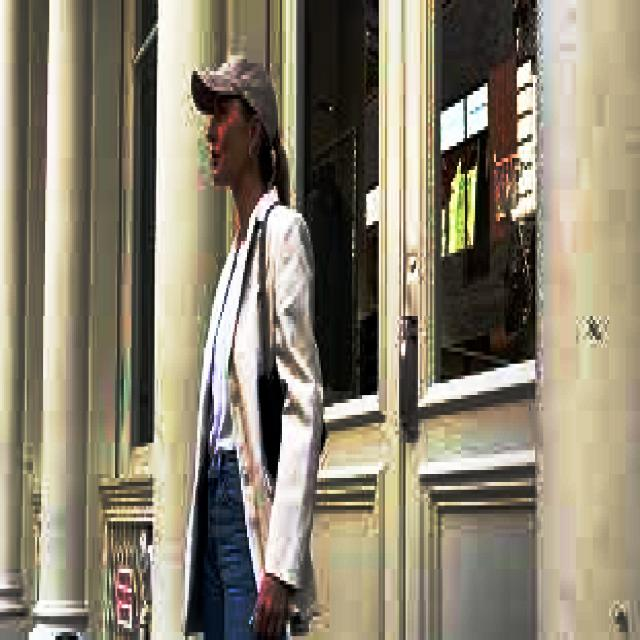TOPI: (183, 44, 284, 154)
